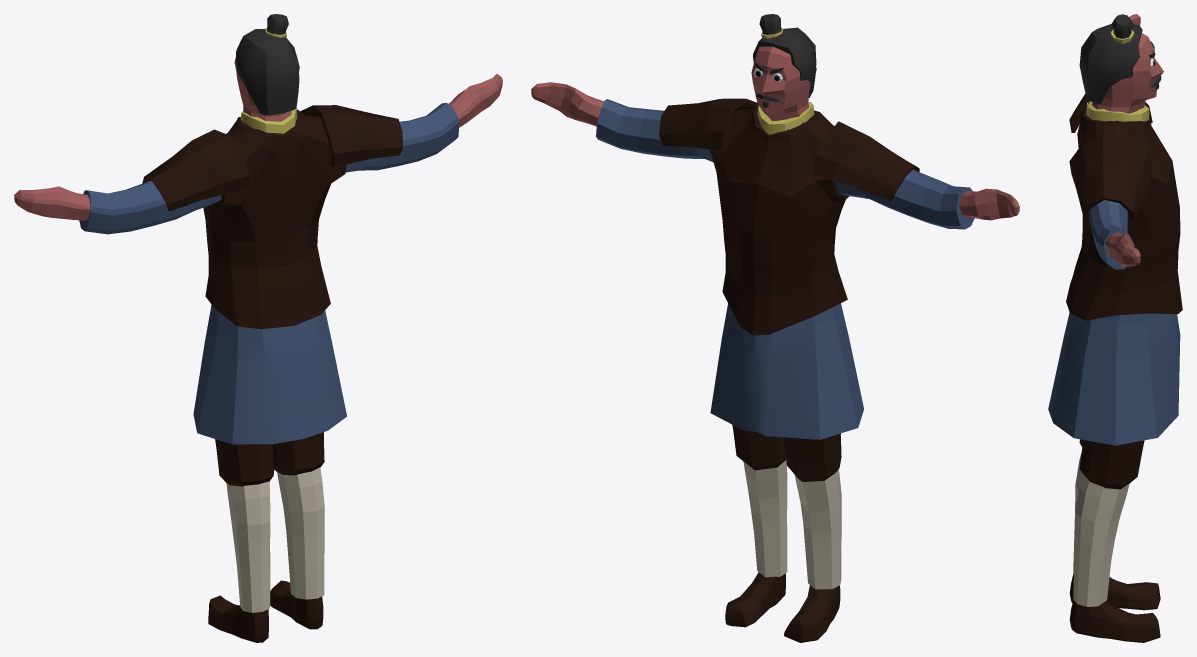
File: shibing_lv1.fbx
3 renders of one model, left to right at view 1: azimuth 30°, elevation 25°; view 2: azimuth 150°, elevation 25°; view 3: azimuth 270°, elevation 25°, orthographic.
Visible parts, largest first — view 1: yifu1, kuijia0, tui, jianjia, toufa, shenti2, kuzi, xiezi, weibo; view 2: kuijia0, yifu1, tui, jianjia, shenti2, xiezi, kuzi, toufa, weibo; view 3: yifu1, kuijia0, jianjia, tui, xiezi, shenti2, toufa, kuzi, weibo, pCylinder1.
Boxes of the visible parts, x1,y1,x2,y2 form: yifu1: (79, 102, 459, 444); kuijia0: (203, 109, 346, 329); tui: (226, 467, 324, 612); jianjia: (142, 105, 402, 211); toufa: (236, 29, 299, 115); shenti2: (14, 57, 502, 220); kuzi: (215, 432, 324, 486); xiezi: (208, 580, 323, 642); weibo: (240, 108, 297, 133); kuijia0: (710, 104, 849, 335); yifu1: (596, 99, 974, 439); tui: (743, 460, 841, 589); jianjia: (659, 98, 919, 200); shenti2: (531, 46, 1019, 220); xiezi: (725, 572, 840, 642); kuzi: (732, 425, 841, 481); toufa: (753, 27, 816, 97); weibo: (757, 101, 814, 134); yifu1: (1048, 101, 1180, 445); kuijia0: (1066, 109, 1182, 320); jianjia: (1069, 94, 1152, 220); tui: (1073, 453, 1129, 606); xiezi: (1069, 573, 1160, 642); shenti2: (1091, 14, 1163, 267); toufa: (1079, 24, 1142, 104); kuzi: (1079, 439, 1144, 489); weibo: (1086, 101, 1149, 121); pCylinder1: (1111, 14, 1133, 38).
Size of the model in its own units: 7.86 by 9.32 by 1.86.
